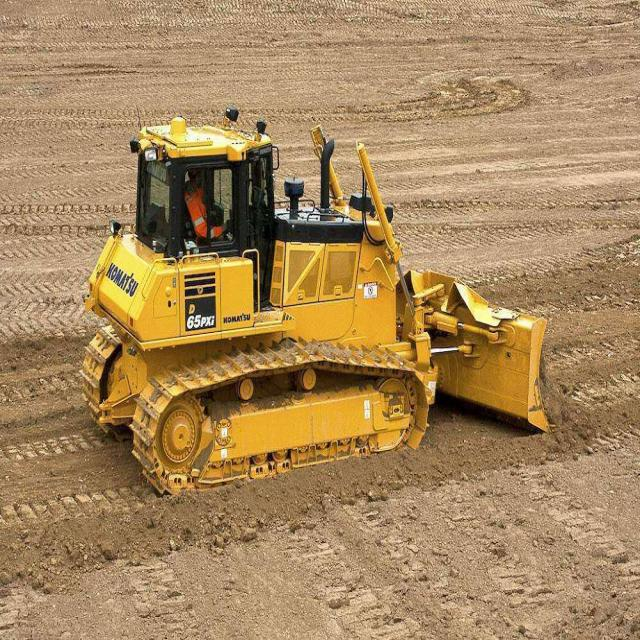Bulldozer: (72, 104, 580, 502)
